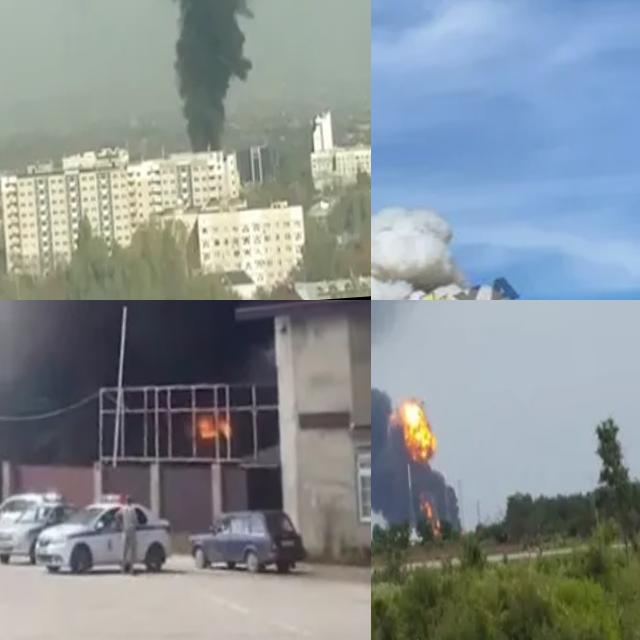smoke: (0, 300, 371, 458), (371, 300, 536, 557), (111, 0, 339, 147), (371, 194, 559, 300)
